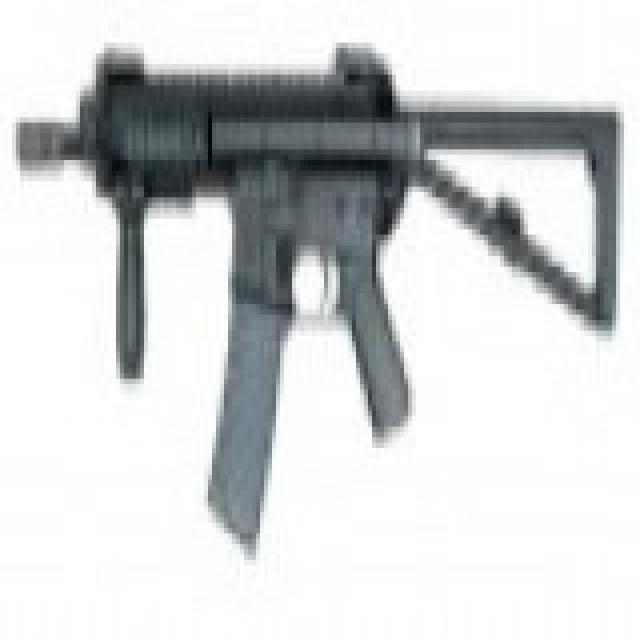Gun: (8, 21, 627, 556)
